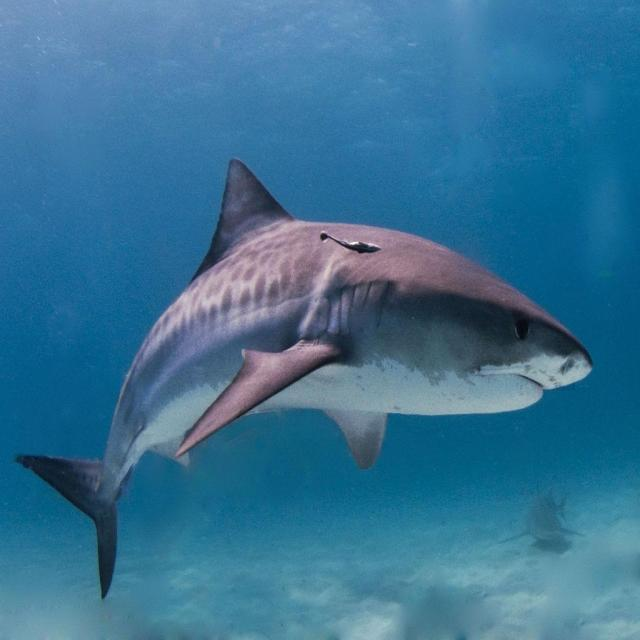shark: (16, 159, 592, 594)
